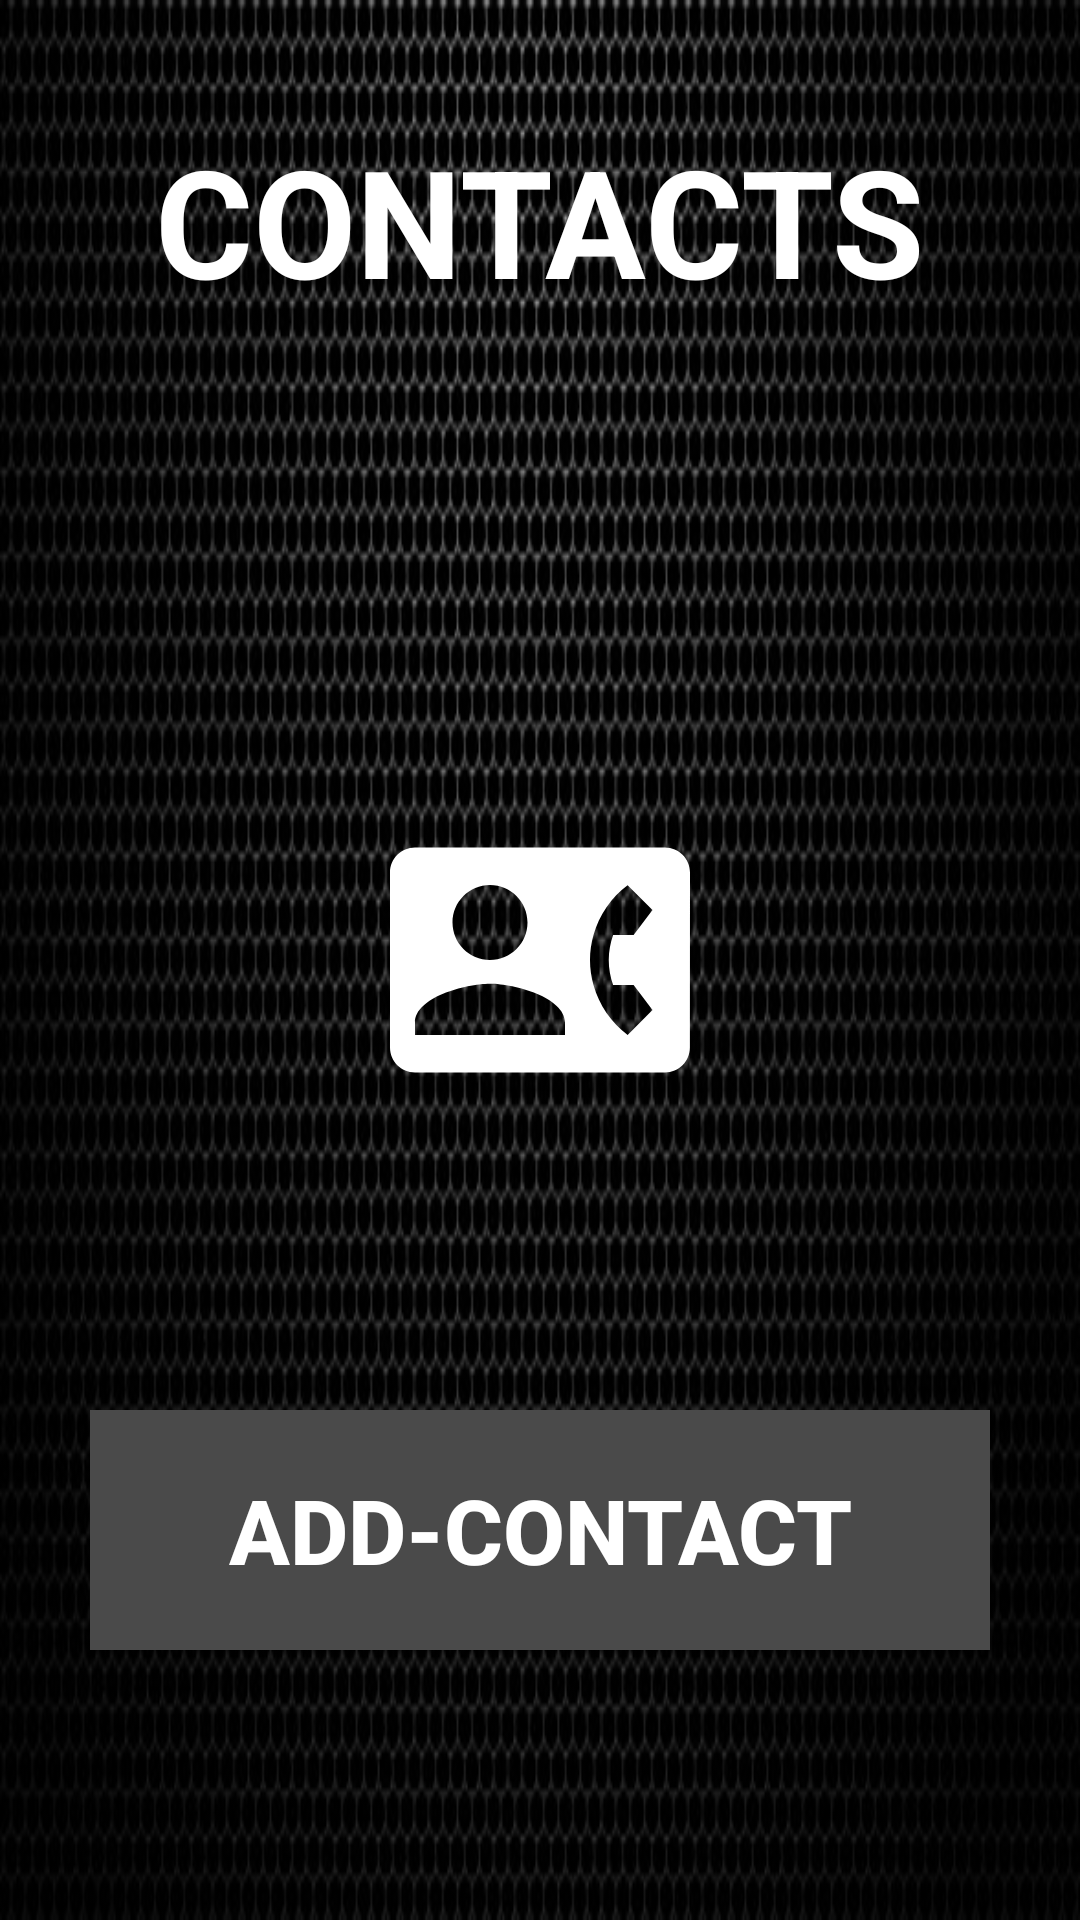

Point at icon controls on the screen. Image size 1080w x 1920h, points as (x,y).
contact phone: (540,960)
